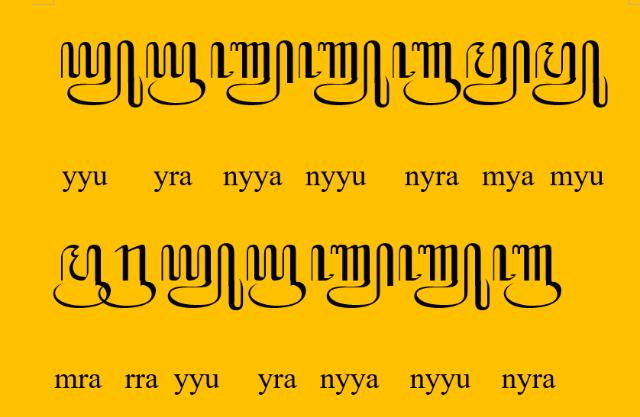mr: (54, 245, 110, 309)
my: (462, 40, 530, 106)
myu: (532, 40, 608, 108)
nyr: (492, 244, 562, 310), (392, 42, 462, 107)
nyy: (210, 40, 294, 106), (310, 243, 394, 309)
nyyu: (398, 242, 490, 312), (298, 40, 389, 108)
rr: (98, 245, 156, 309)
yr: (146, 40, 207, 105), (246, 244, 306, 310)
yyu: (160, 242, 244, 312), (60, 40, 144, 108)
